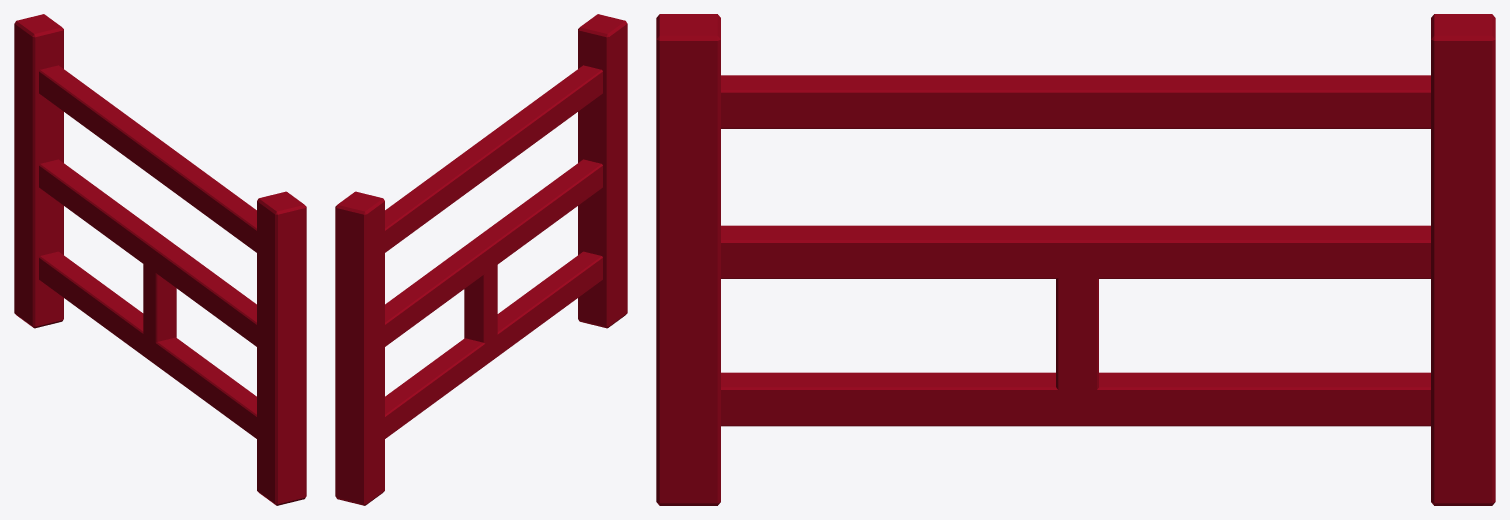
File: dojo-railing.fbx
3 renders of one model, left to right at view 1: azimuth 30°, elevation 25°; view 2: azimuth 150°, elevation 25°; view 3: azimuth 270°, elevation 25°, orthographic. The views are drawn at different scales.
Visible parts, largest first — view 1: railing; view 2: railing; view 3: railing.
Part boxes in pixels (x1,y1,x2,y2): railing: [14, 14, 306, 505]; railing: [335, 14, 627, 505]; railing: [656, 14, 1495, 505].
Size of the model in its own units: 13.47 by 121 by 195.
